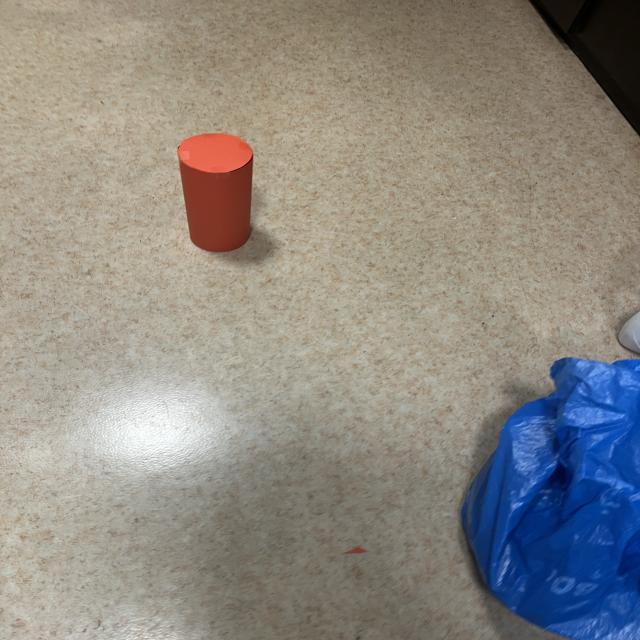przeszkoda: (177, 133, 253, 251)
